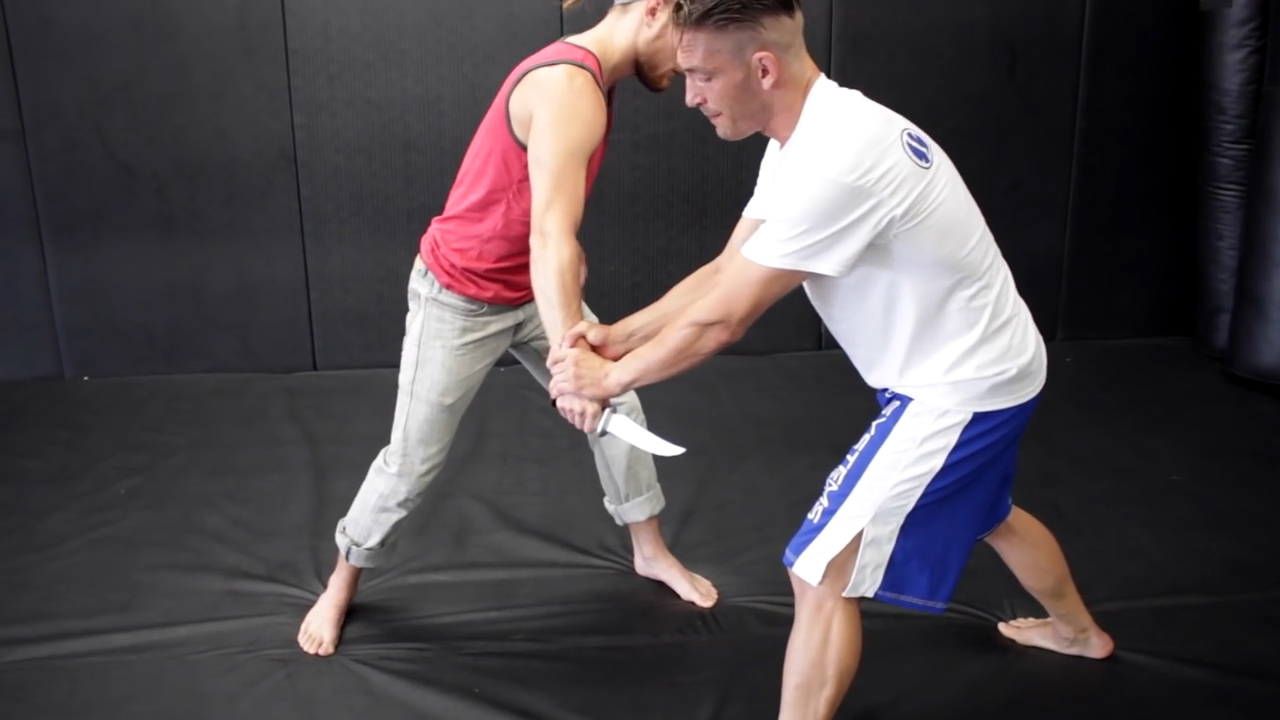knife: (543, 397, 696, 466)
